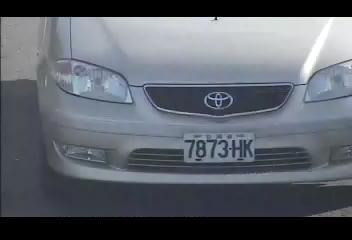plate: (180, 131, 257, 164)
